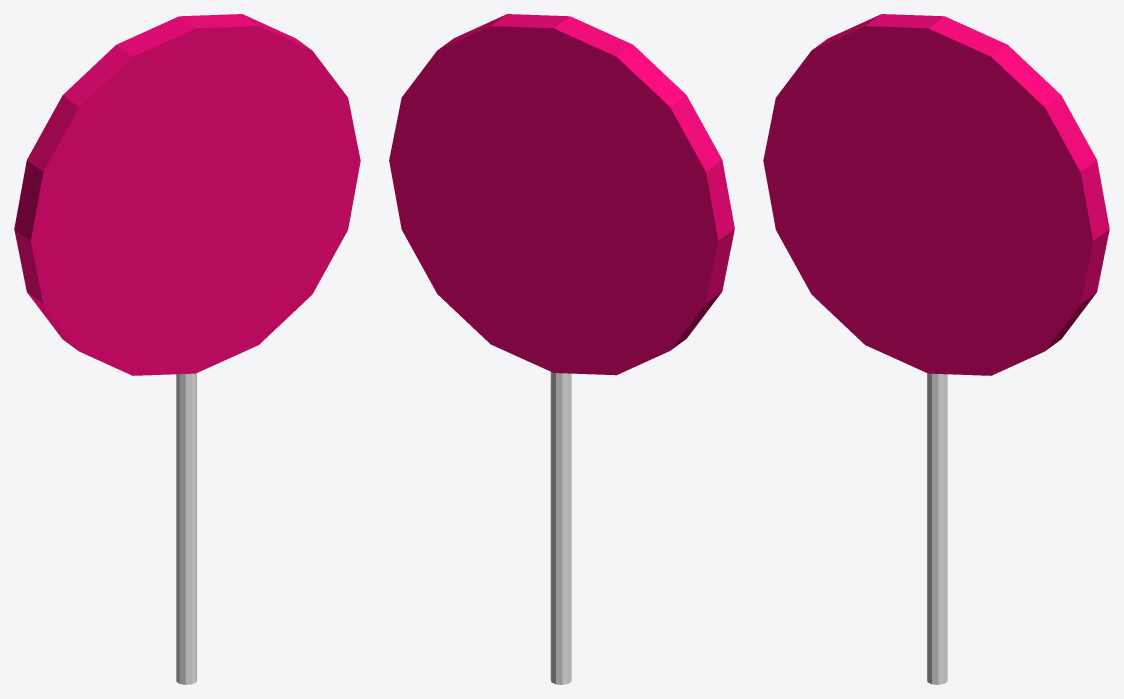
File: Pirulito.fbx
The picture shows the model from 3 angles, left to right: view 1: azimuth 30°, elevation 25°; view 2: azimuth 150°, elevation 25°; view 3: azimuth 330°, elevation 25°; orthographic projection.
Visible parts, largest first — view 1: Pirulito; view 2: Pirulito; view 3: Pirulito.
Boxes of the visible parts, x1,y1,x2,y2 form: Pirulito: (14, 14, 360, 684); Pirulito: (389, 14, 734, 684); Pirulito: (763, 14, 1109, 684).
Bounding box in the file's own units: 18.26 × 34.84 × 1.59.
